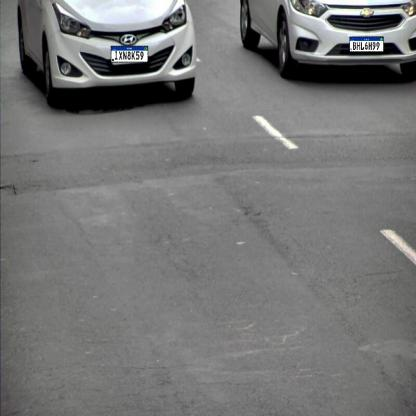PlacaM: (111, 46, 148, 62), (349, 37, 384, 52)
